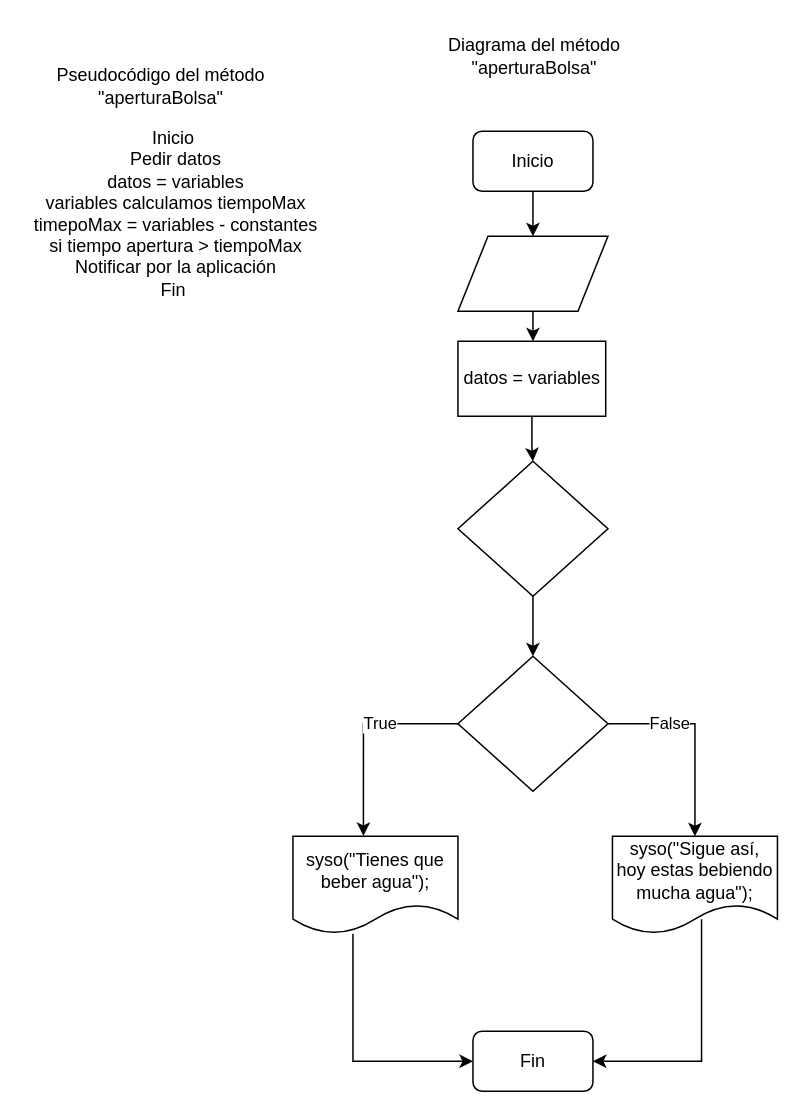
The diagram is 804 pixels wide and 1118 high, and some of its shapes have lost their labels. Here are the shapes that lost their labels. From the top down, the box of each, then its label:
(456, 235, 608, 311): Pedir datos
(456, 460, 608, 596): timepoMax = variables - constantes
(456, 655, 608, 791): if (tiempoApertura > tiempoMax)
